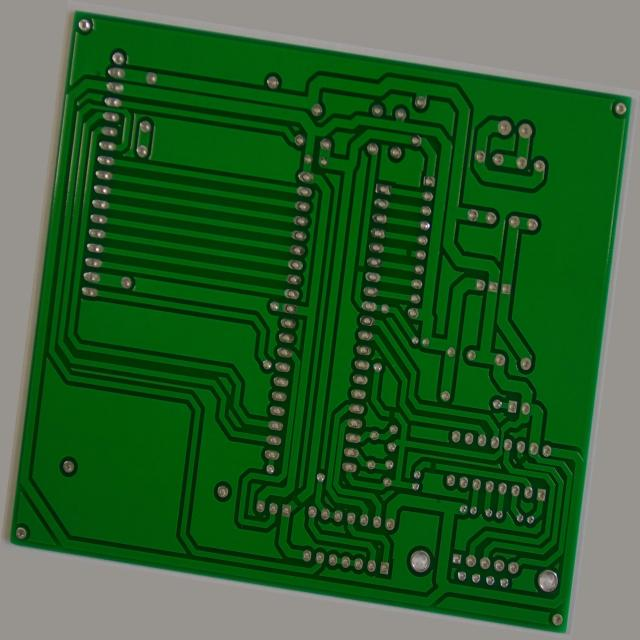open_circuit: (311, 523, 328, 541), (405, 406, 420, 422), (457, 458, 470, 474), (351, 245, 363, 262), (400, 221, 415, 234)
